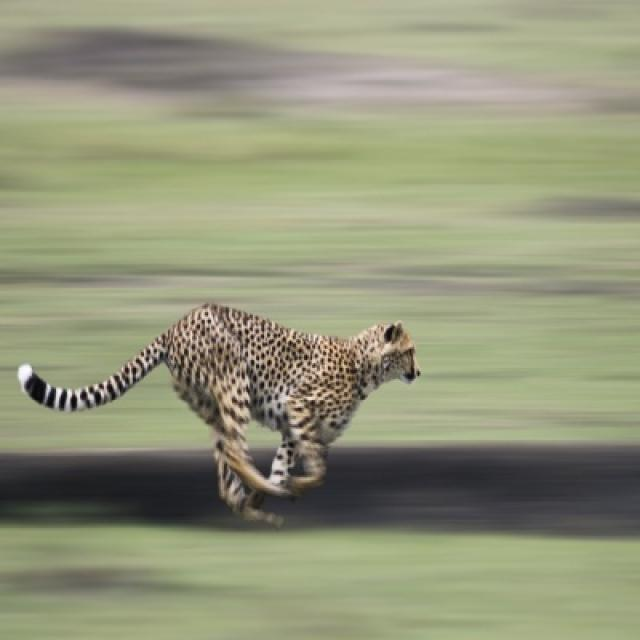Cheetah: (23, 298, 428, 534)
